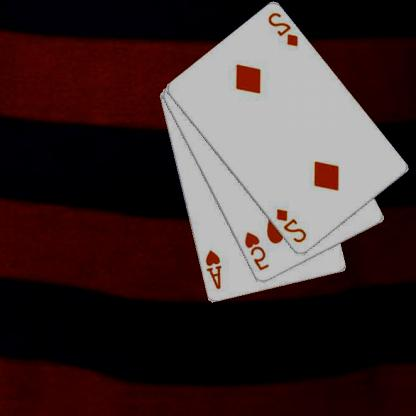2D: (266, 10, 302, 48), (275, 206, 310, 245)
5H: (243, 229, 272, 273)
AH: (204, 248, 225, 291)
